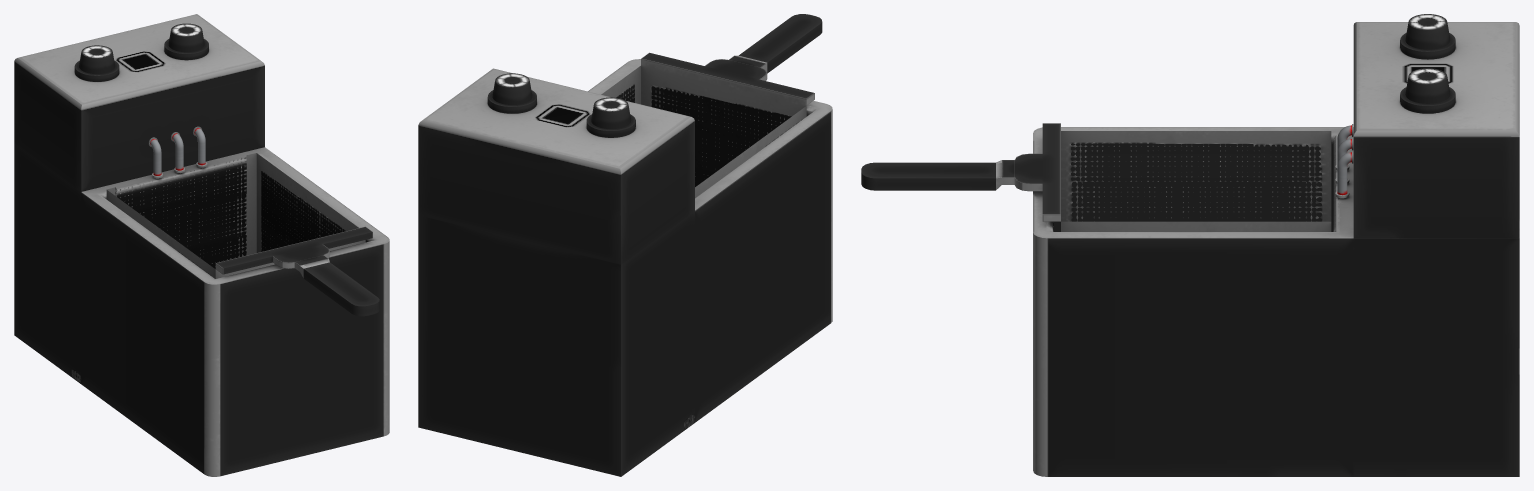
The model's file is fritoz.fbx.
3 views of the same model, side by side, from view 1: azimuth 30°, elevation 25°; view 2: azimuth 150°, elevation 25°; view 3: azimuth 270°, elevation 25° (orthographic). The views are drawn at different scales.
Parts seen in each view (by area): view 1: fritoz_body, fritoz_holder, fritoz_buttons1, fritoz_buttons; view 2: fritoz_body, fritoz_holder, fritoz_buttons1, fritoz_buttons; view 3: fritoz_body, fritoz_holder, fritoz_buttons1, fritoz_buttons.
Boxes of the visible parts, x1=… form: fritoz_body: x1=14, y1=14, x2=389, y2=476; fritoz_holder: x1=106, y1=153, x2=379, y2=316; fritoz_buttons1: x1=74, y1=45, x2=119, y2=81; fritoz_buttons: x1=164, y1=23, x2=208, y2=60; fritoz_body: x1=418, y1=59, x2=832, y2=476; fritoz_holder: x1=601, y1=14, x2=822, y2=198; fritoz_buttons1: x1=586, y1=97, x2=635, y2=137; fritoz_buttons: x1=487, y1=73, x2=536, y2=113; fritoz_body: x1=1033, y1=22, x2=1519, y2=476; fritoz_holder: x1=861, y1=123, x2=1331, y2=231; fritoz_buttons1: x1=1400, y1=14, x2=1455, y2=59; fritoz_buttons: x1=1400, y1=68, x2=1455, y2=113.
Size of the model in its own units: 91.89 by 143 by 230.
